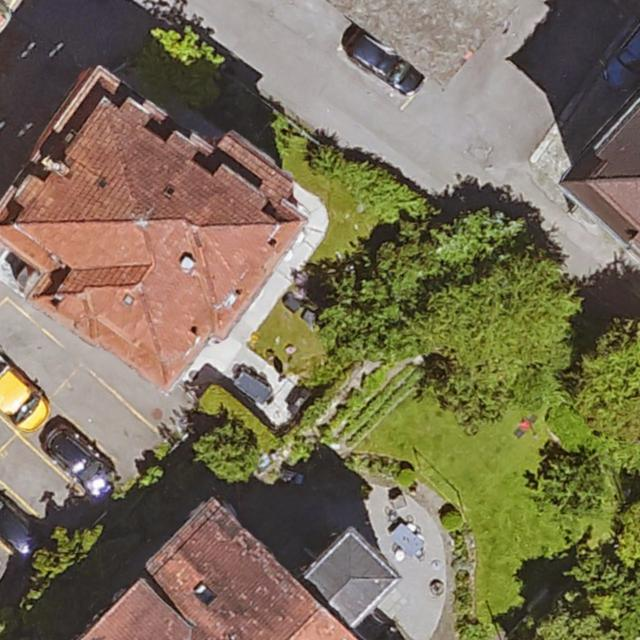tree: (431, 247, 575, 414), (6, 521, 129, 624), (538, 527, 640, 640), (572, 321, 640, 441), (134, 30, 226, 109), (314, 275, 401, 357), (370, 228, 441, 301), (533, 451, 609, 517), (193, 425, 257, 485)
